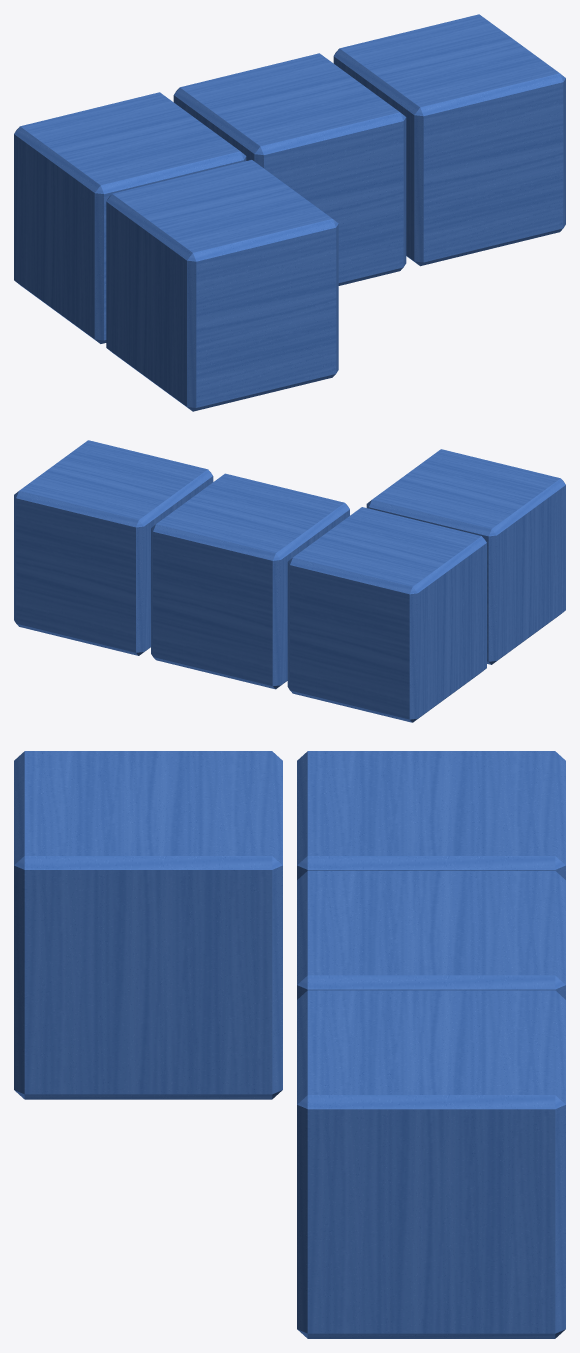
Rendered from piece_L.glb.
The picture shows the model from 3 angles, top to bottom: view 1: azimuth 30°, elevation 25°; view 2: azimuth 150°, elevation 25°; view 3: azimuth 270°, elevation 25°; orthographic projection. The views are drawn at different scales.
Visible parts, largest first — view 1: piece_L; view 2: piece_L; view 3: piece_L.
Boxes of the visible parts, x1=… form: piece_L: x1=14, y1=14, x2=565, y2=411; piece_L: x1=14, y1=440, x2=565, y2=722; piece_L: x1=14, y1=751, x2=565, y2=1338.
Size of the model in its own units: 0.118 by 0.038 by 0.078.
Materials: 1 (1 with a texture image).
